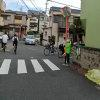crosswalks: (0, 56, 62, 75)
